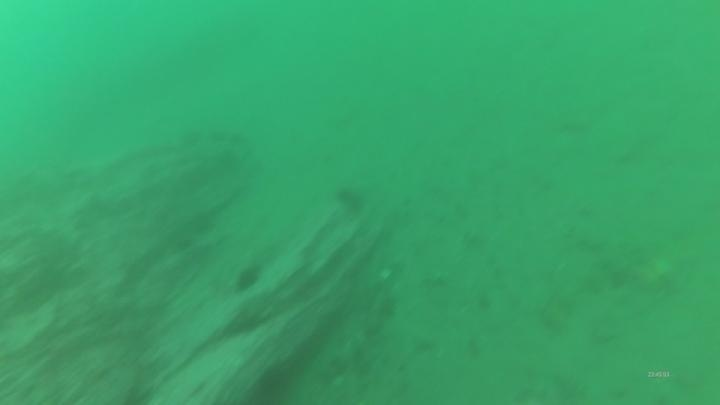echinus: (332, 183, 368, 216), (231, 262, 265, 296)
